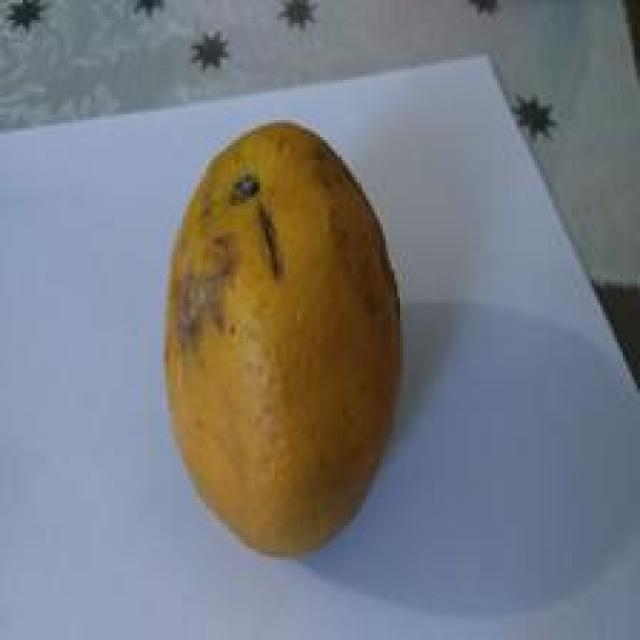overripe: (160, 112, 410, 559)
